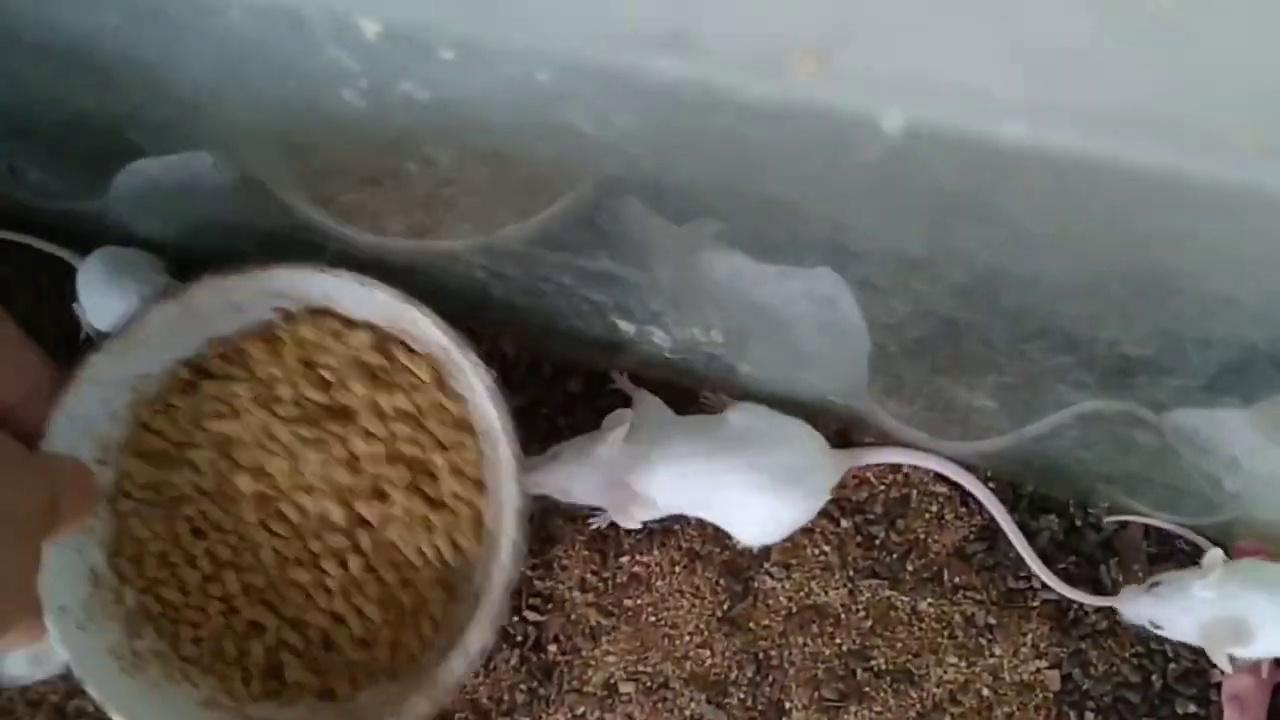rat: (525, 366, 1115, 606), (1104, 515, 1280, 673), (0, 230, 178, 341)
